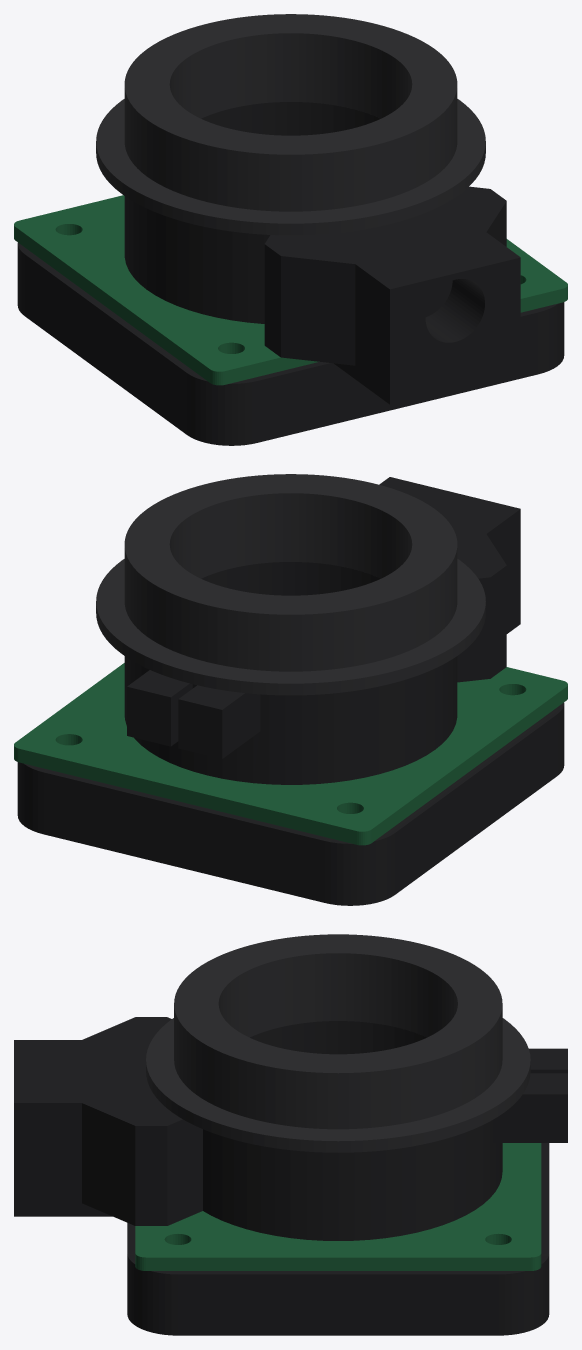
Rendered from raspberry-pi-global-shutter-camera.glb.
The picture shows the model from 3 angles, top to bottom: view 1: azimuth 30°, elevation 25°; view 2: azimuth 150°, elevation 25°; view 3: azimuth 270°, elevation 25°; orthographic projection.
Visible parts, largest first — view 1: raspberry-pi-global-shutter-camera; view 2: raspberry-pi-global-shutter-camera; view 3: raspberry-pi-global-shutter-camera.
Boxes of the visible parts, bbox=[...] form: raspberry-pi-global-shutter-camera: bbox=[14, 14, 567, 445]; raspberry-pi-global-shutter-camera: bbox=[14, 474, 567, 905]; raspberry-pi-global-shutter-camera: bbox=[14, 934, 567, 1335].
Size of the model in its own units: 39.5 by 25.07 by 51.86.
